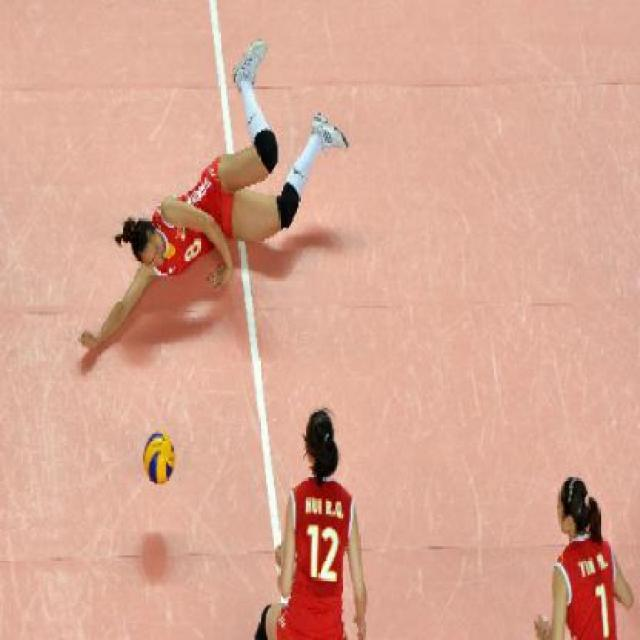fall: (71, 9, 367, 372)
